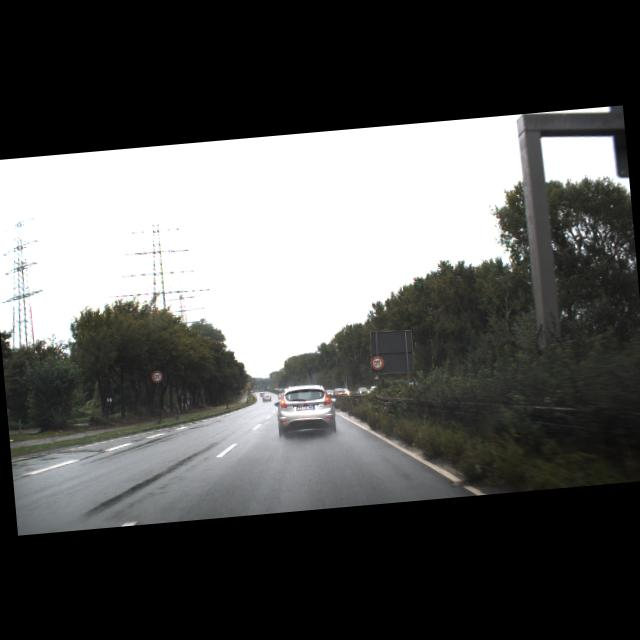prohibitory: (150, 369, 163, 382), (372, 356, 384, 368)
